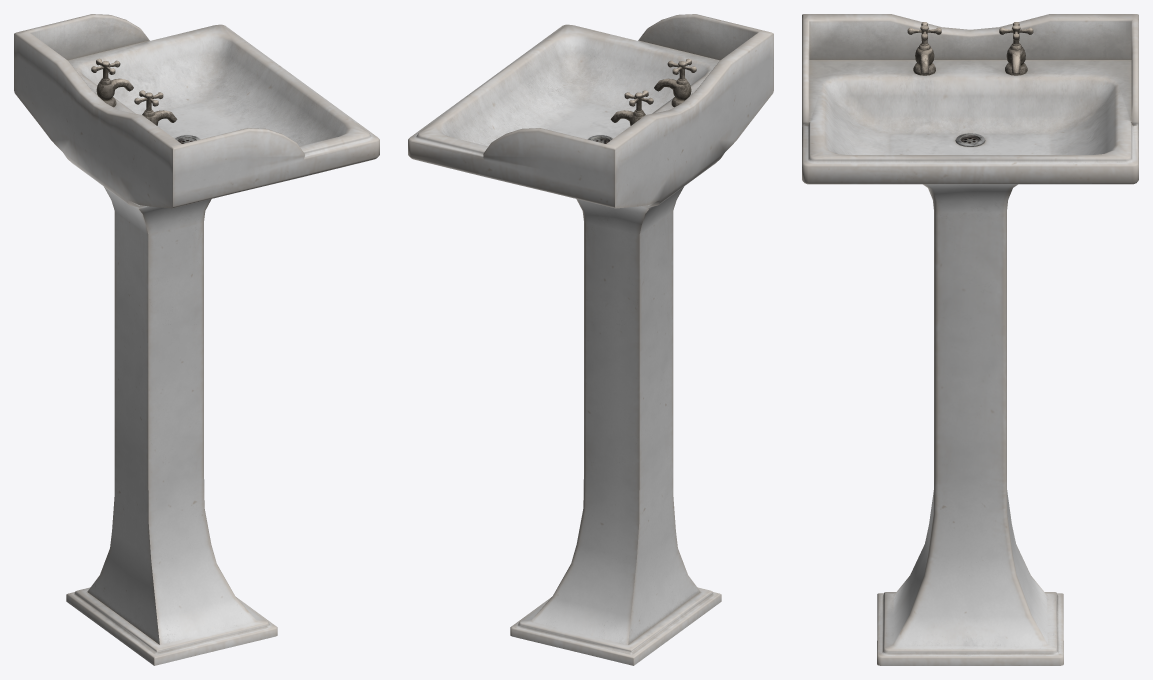
Rendered from sink2.fbx.
3 views of the same model, side by side, from view 1: azimuth 30°, elevation 25°; view 2: azimuth 150°, elevation 25°; view 3: azimuth 270°, elevation 25° (orthographic). The views are drawn at different scales.
Visible parts, largest first — view 1: Cube; view 2: Cube; view 3: Cube.
Boxes of the visible parts, left/top/right/bottom form: Cube: left=14, top=14, right=379, bottom=665; Cube: left=408, top=14, right=773, bottom=665; Cube: left=802, top=14, right=1138, bottom=665.
Size of the model in its own units: 46 by 116 by 60.6.
Materials: 1 (1 with a texture image).
